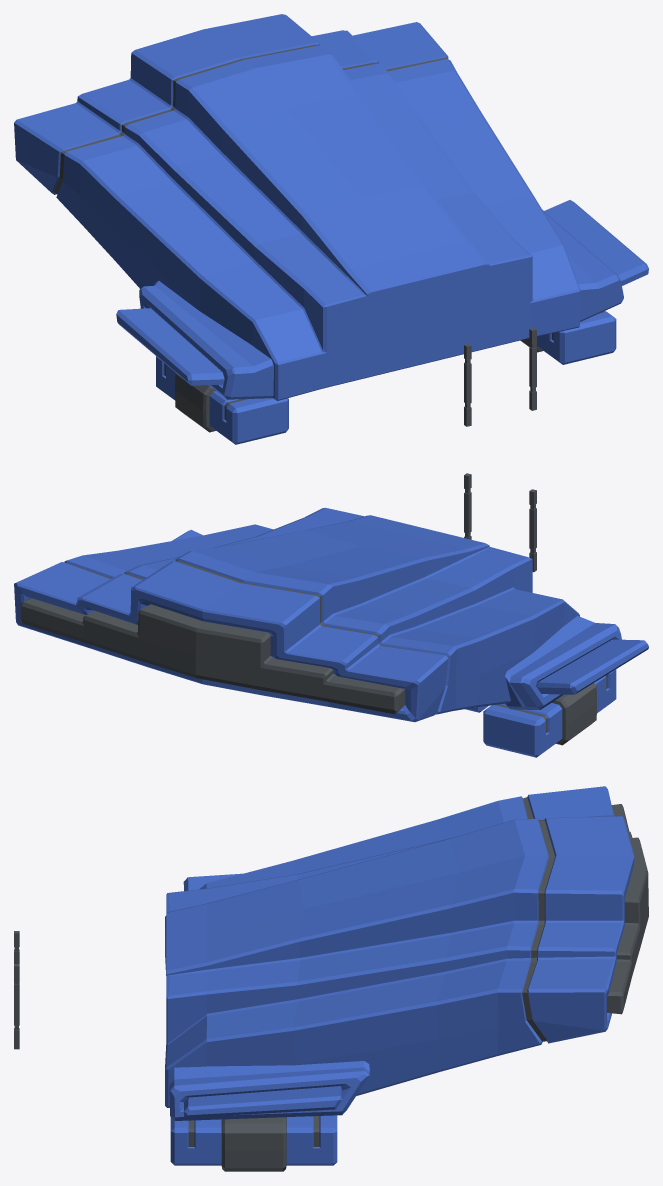
File: Dropship_01_Rear_Body_Blue.fbx
3 renders of one model, top to bottom at view 1: azimuth 30°, elevation 25°; view 2: azimuth 150°, elevation 25°; view 3: azimuth 270°, elevation 25°, orthographic. The views are drawn at different scales.
Visible parts, largest first — view 1: Dropship_01_Rear_Body_Blue; view 2: Dropship_01_Rear_Body_Blue; view 3: Dropship_01_Rear_Body_Blue.
Part boxes in pixels (bbox=[...]): Dropship_01_Rear_Body_Blue: bbox=[14, 14, 648, 444]; Dropship_01_Rear_Body_Blue: bbox=[14, 473, 648, 757]; Dropship_01_Rear_Body_Blue: bbox=[14, 786, 648, 1171].
Size of the model in its own units: 1331 by 589 by 1529.
1 material, 1 textured.
